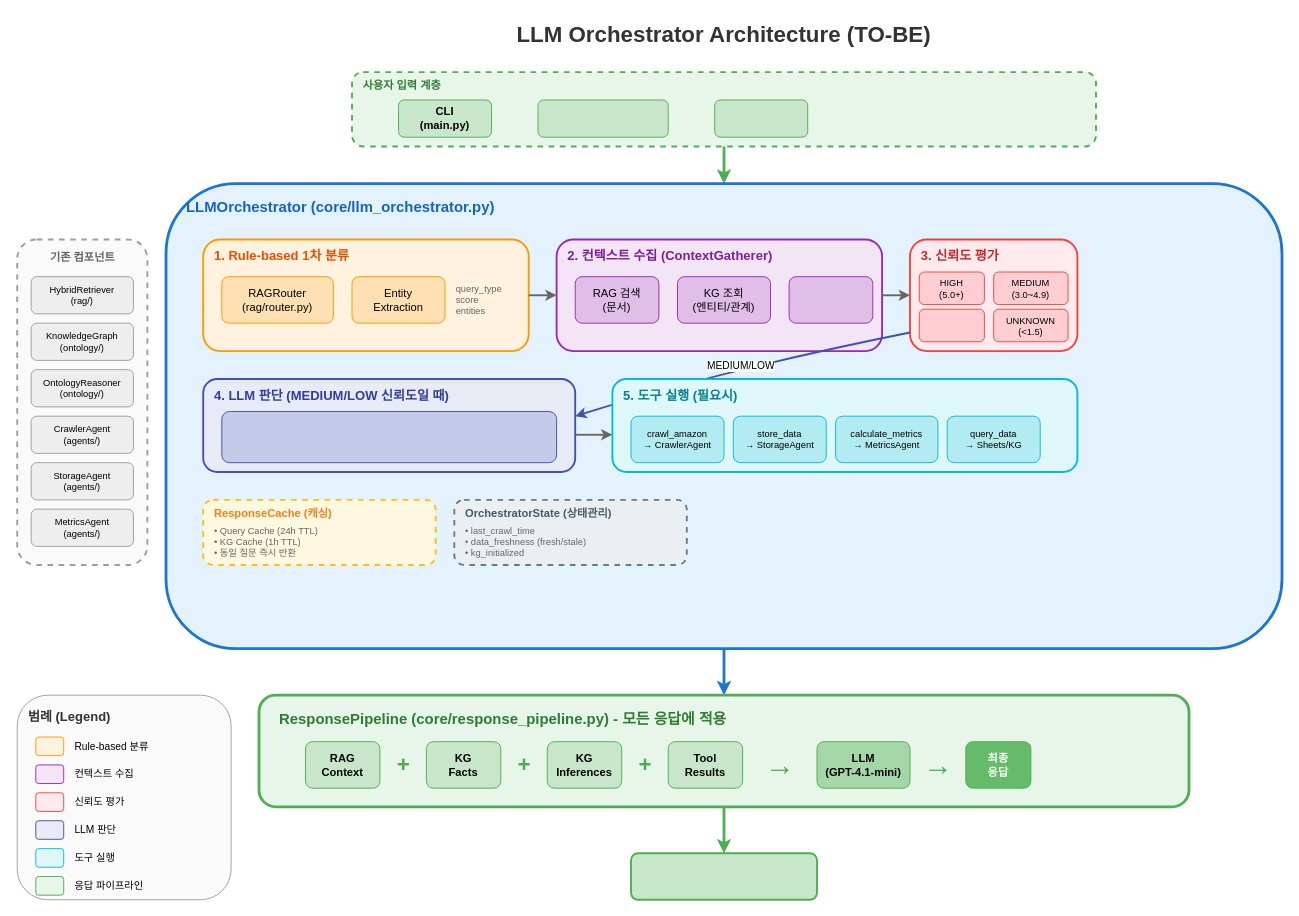
The diagram is 1299 pixels wide and 916 high, and some of its shapes have lost their labels. The shapes that lost their labels are listed below. From the top down, each one's centre as x and y in pixels, then its label:
At point (602, 118): "REST API (dashboard_api.py)".
At point (761, 118): "Dashboard (HTML)".
At point (830, 299): "State 확인 (신선도)".
At point (951, 325): "LOW (1.5~2.9)".
At point (389, 437): "LLM (GPT-4.1-mini) 컨텍스트 기반 도구 선택 판단 {tool, reason, key_points}".
At point (723, 876): "사용자 응답".
